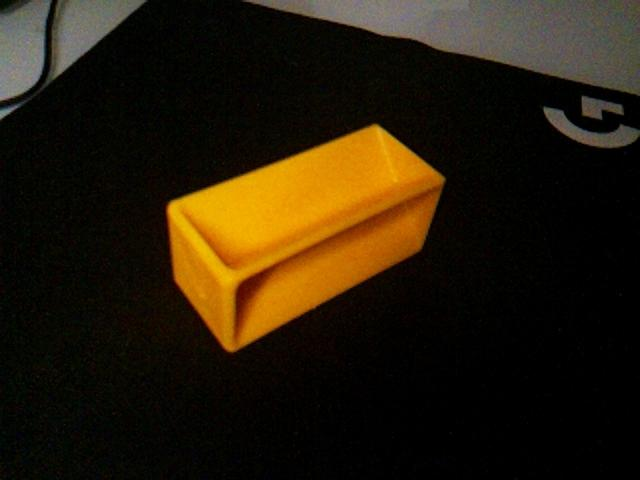yellow: (165, 122, 447, 354)
